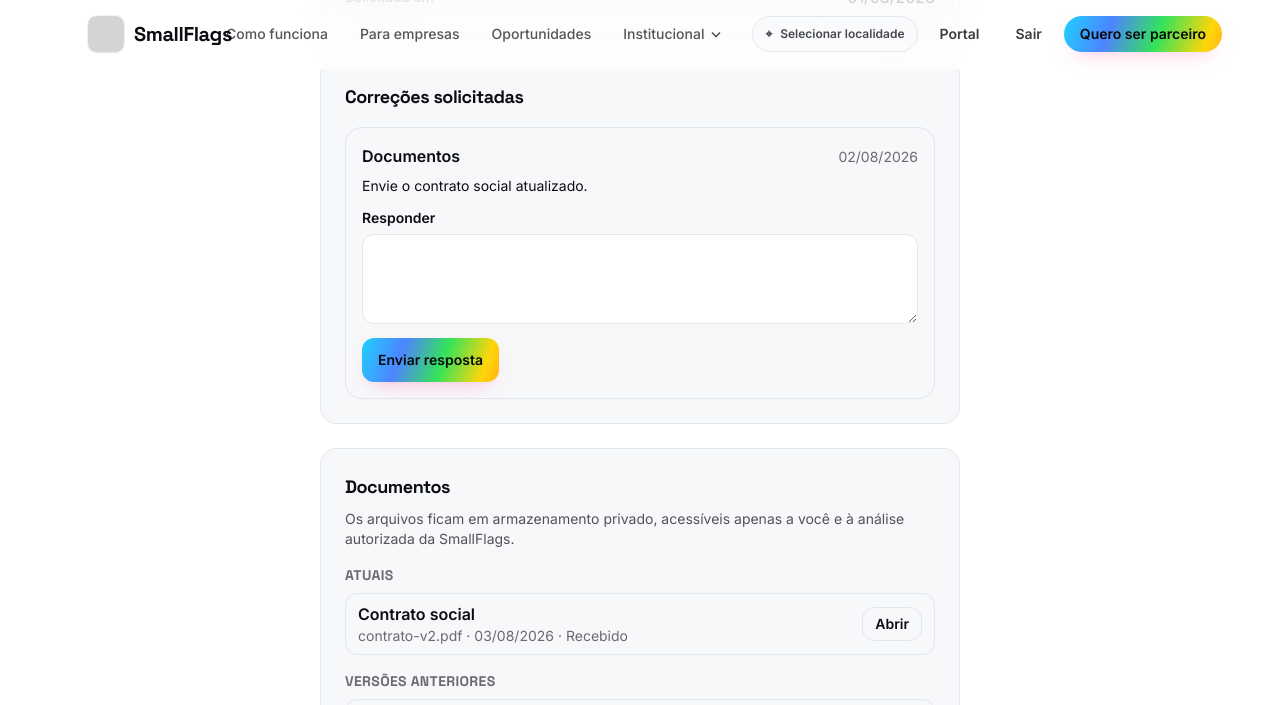
Scenario: B9 — status e correcoes › nao envia resposta vazia
(page scrolled)
Check: the text box labelled "Responder" is shown, box 362,234 -> 918,324
Click the button "Enviar resposta" at [430, 360], box 362,338 -> 499,382
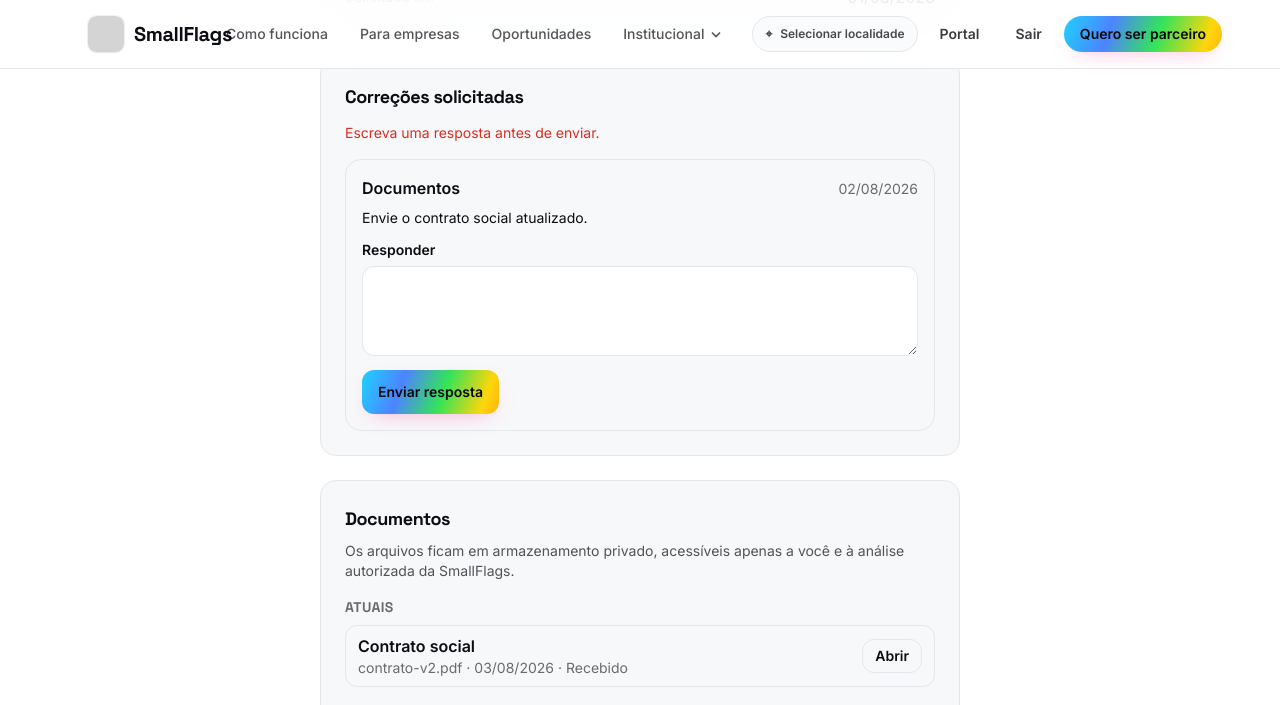
Check: the text "Escreva uma resposta antes de enviar." is shown, box 345,124 -> 600,141
